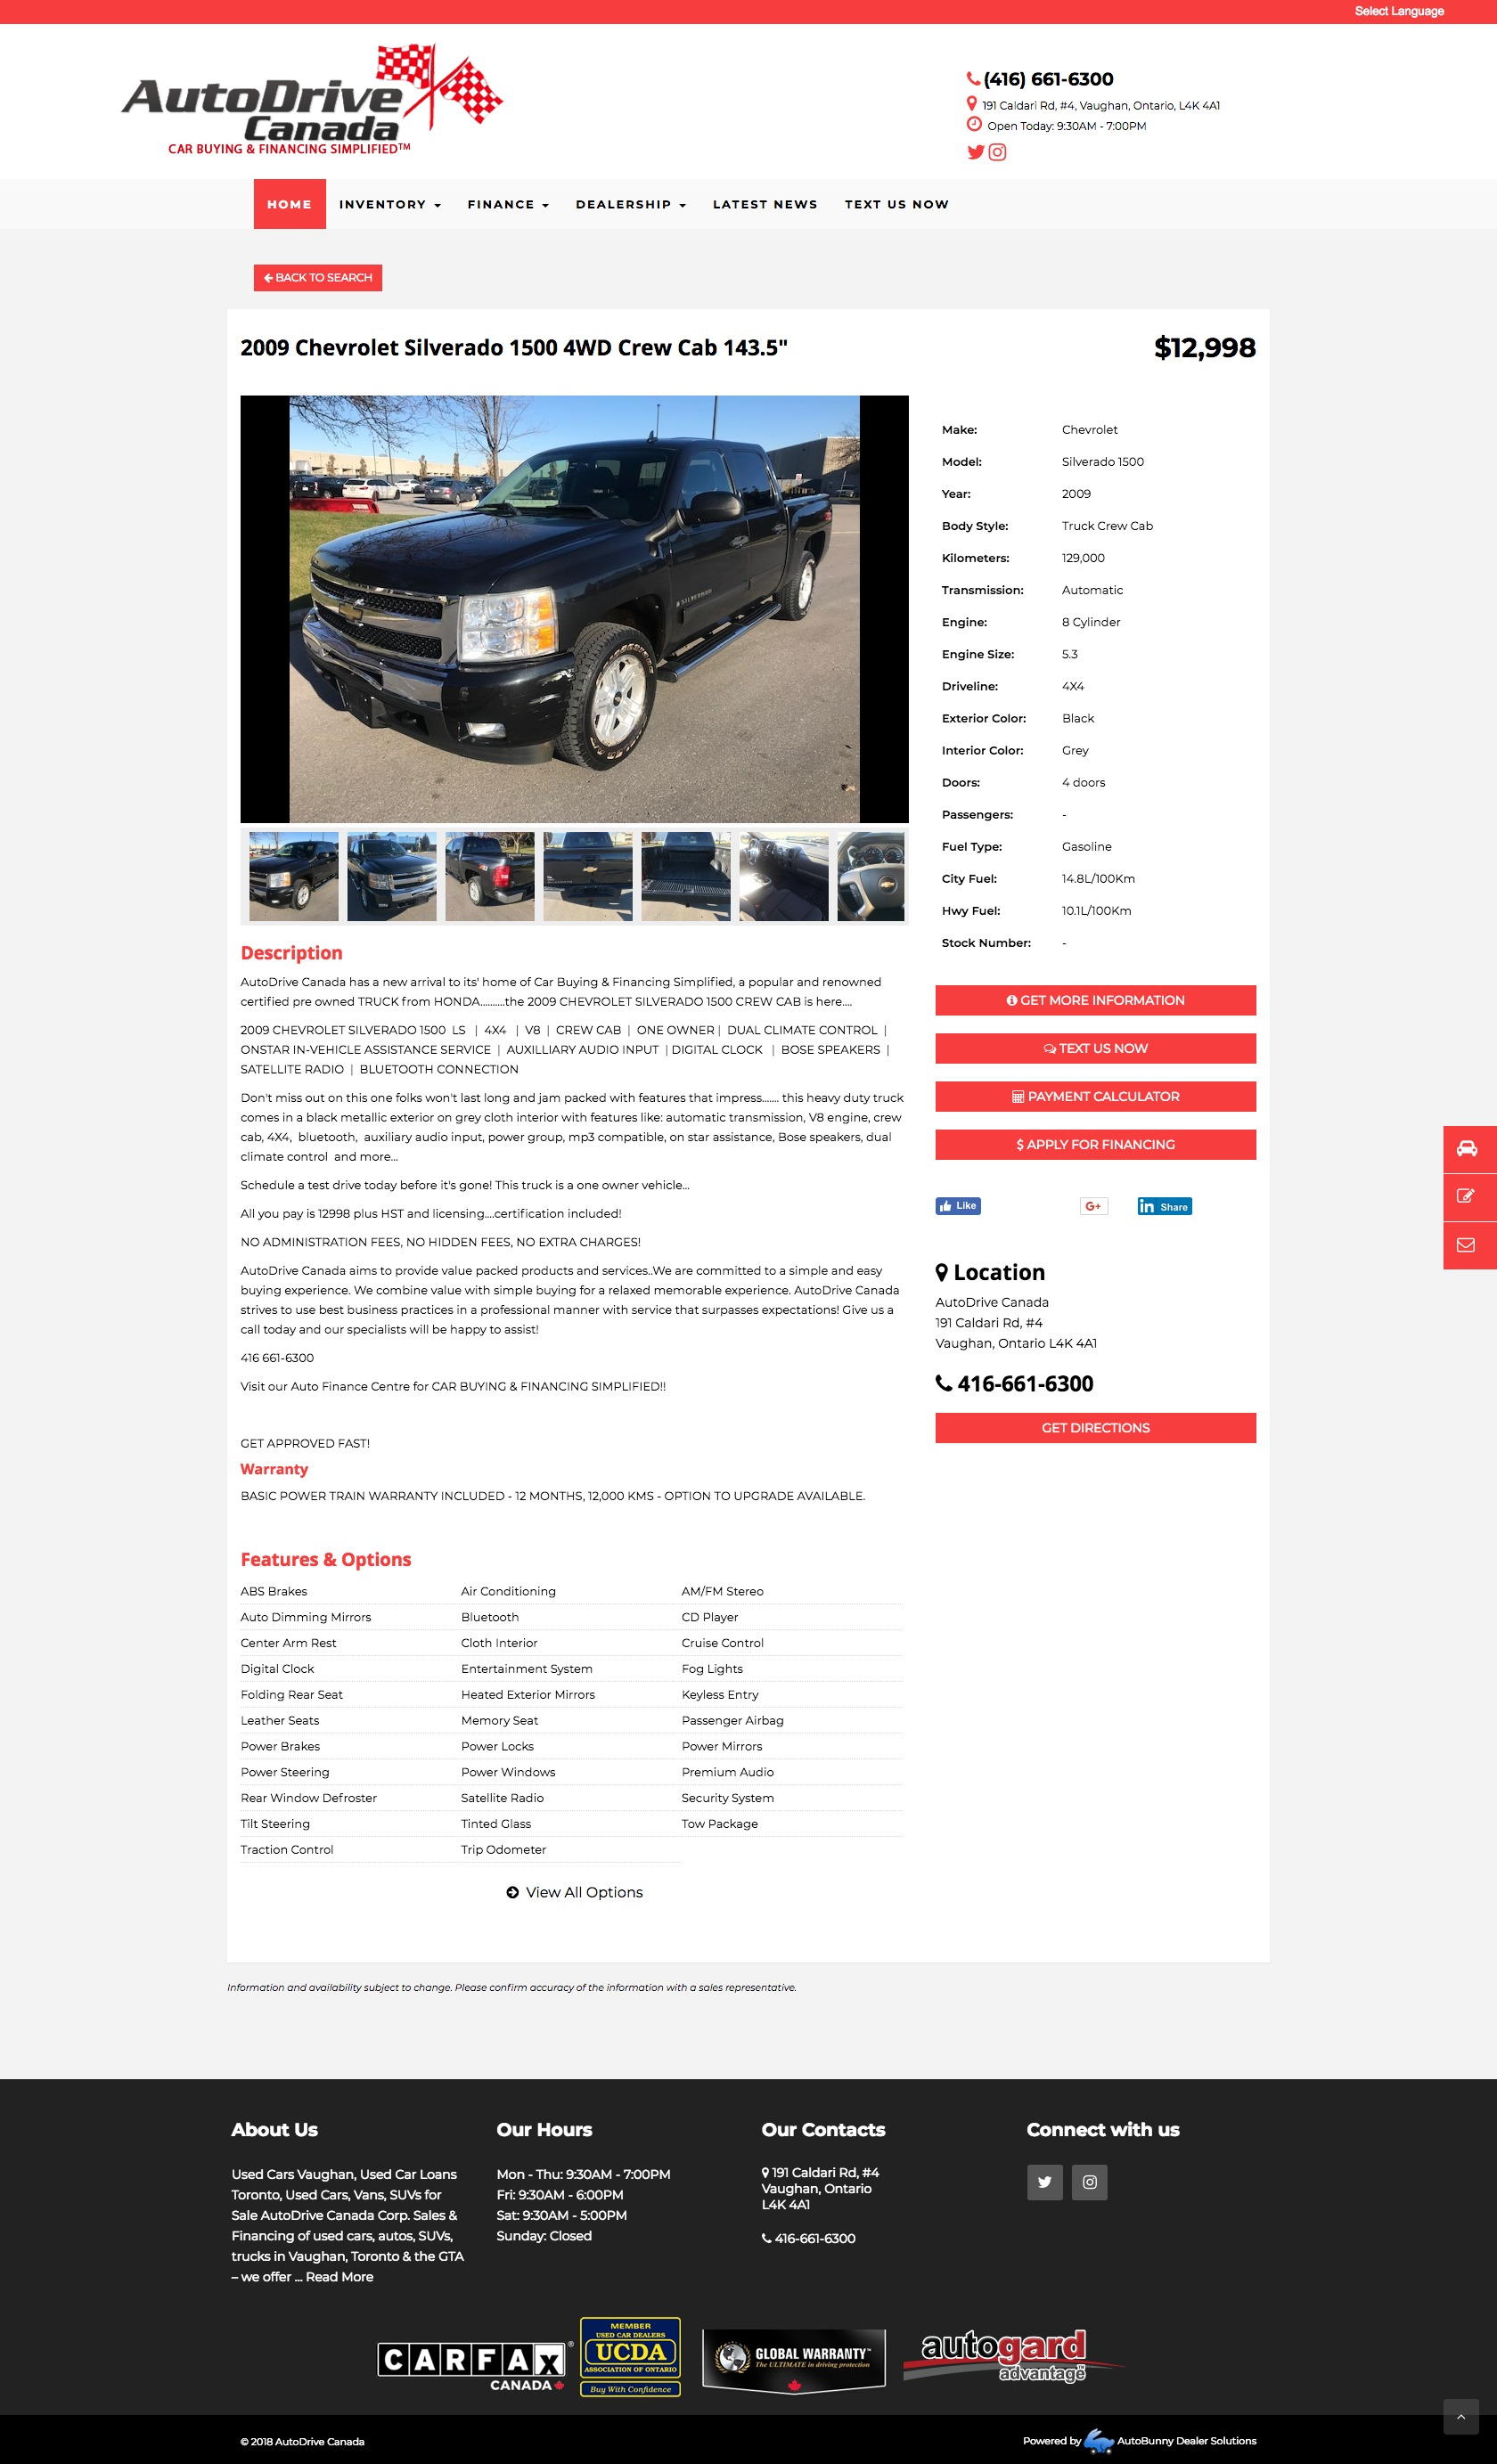car: (886, 827, 912, 928)
